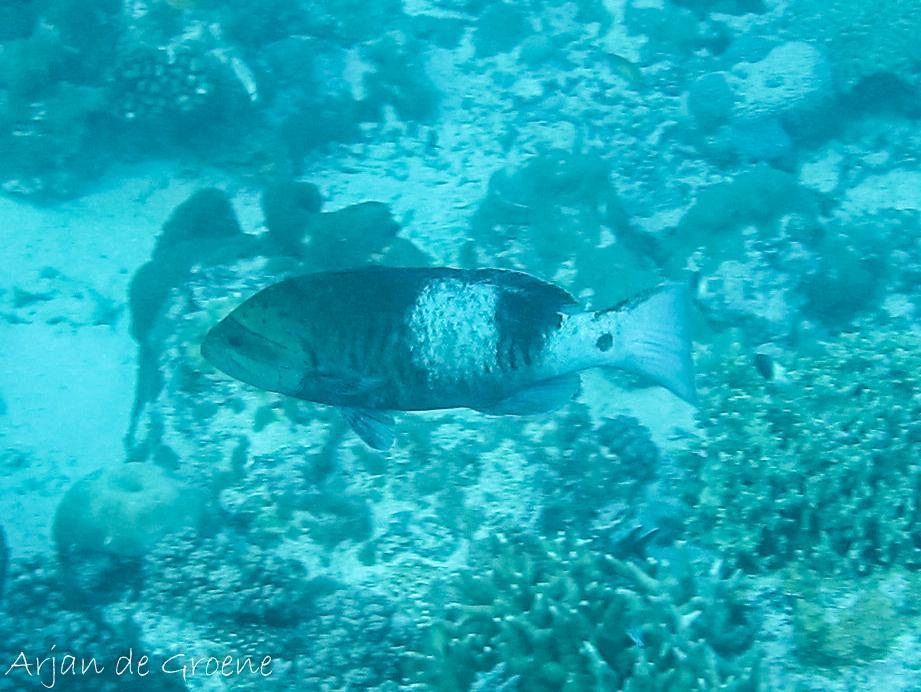Fish: (128, 178, 737, 466)
